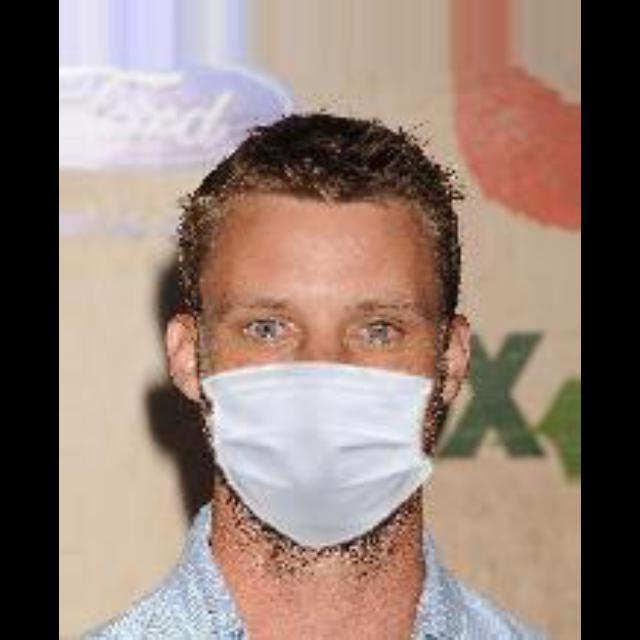suspicion: (148, 137, 492, 548)
